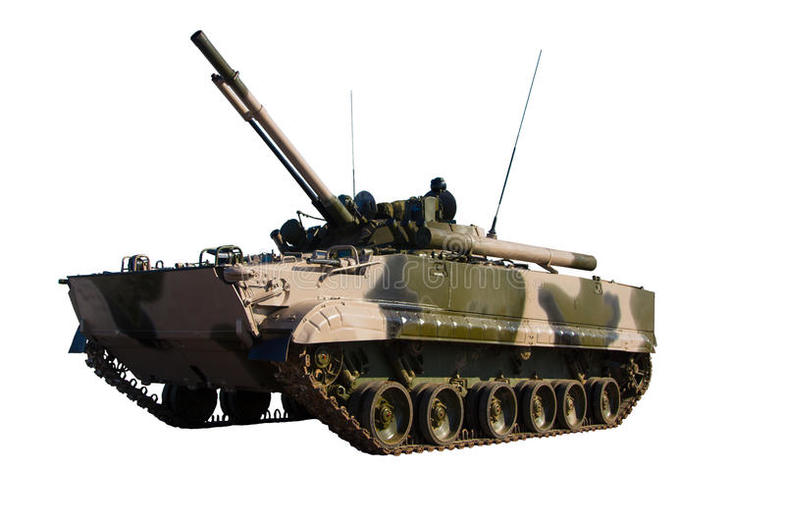bmp: (63, 154, 656, 446)
